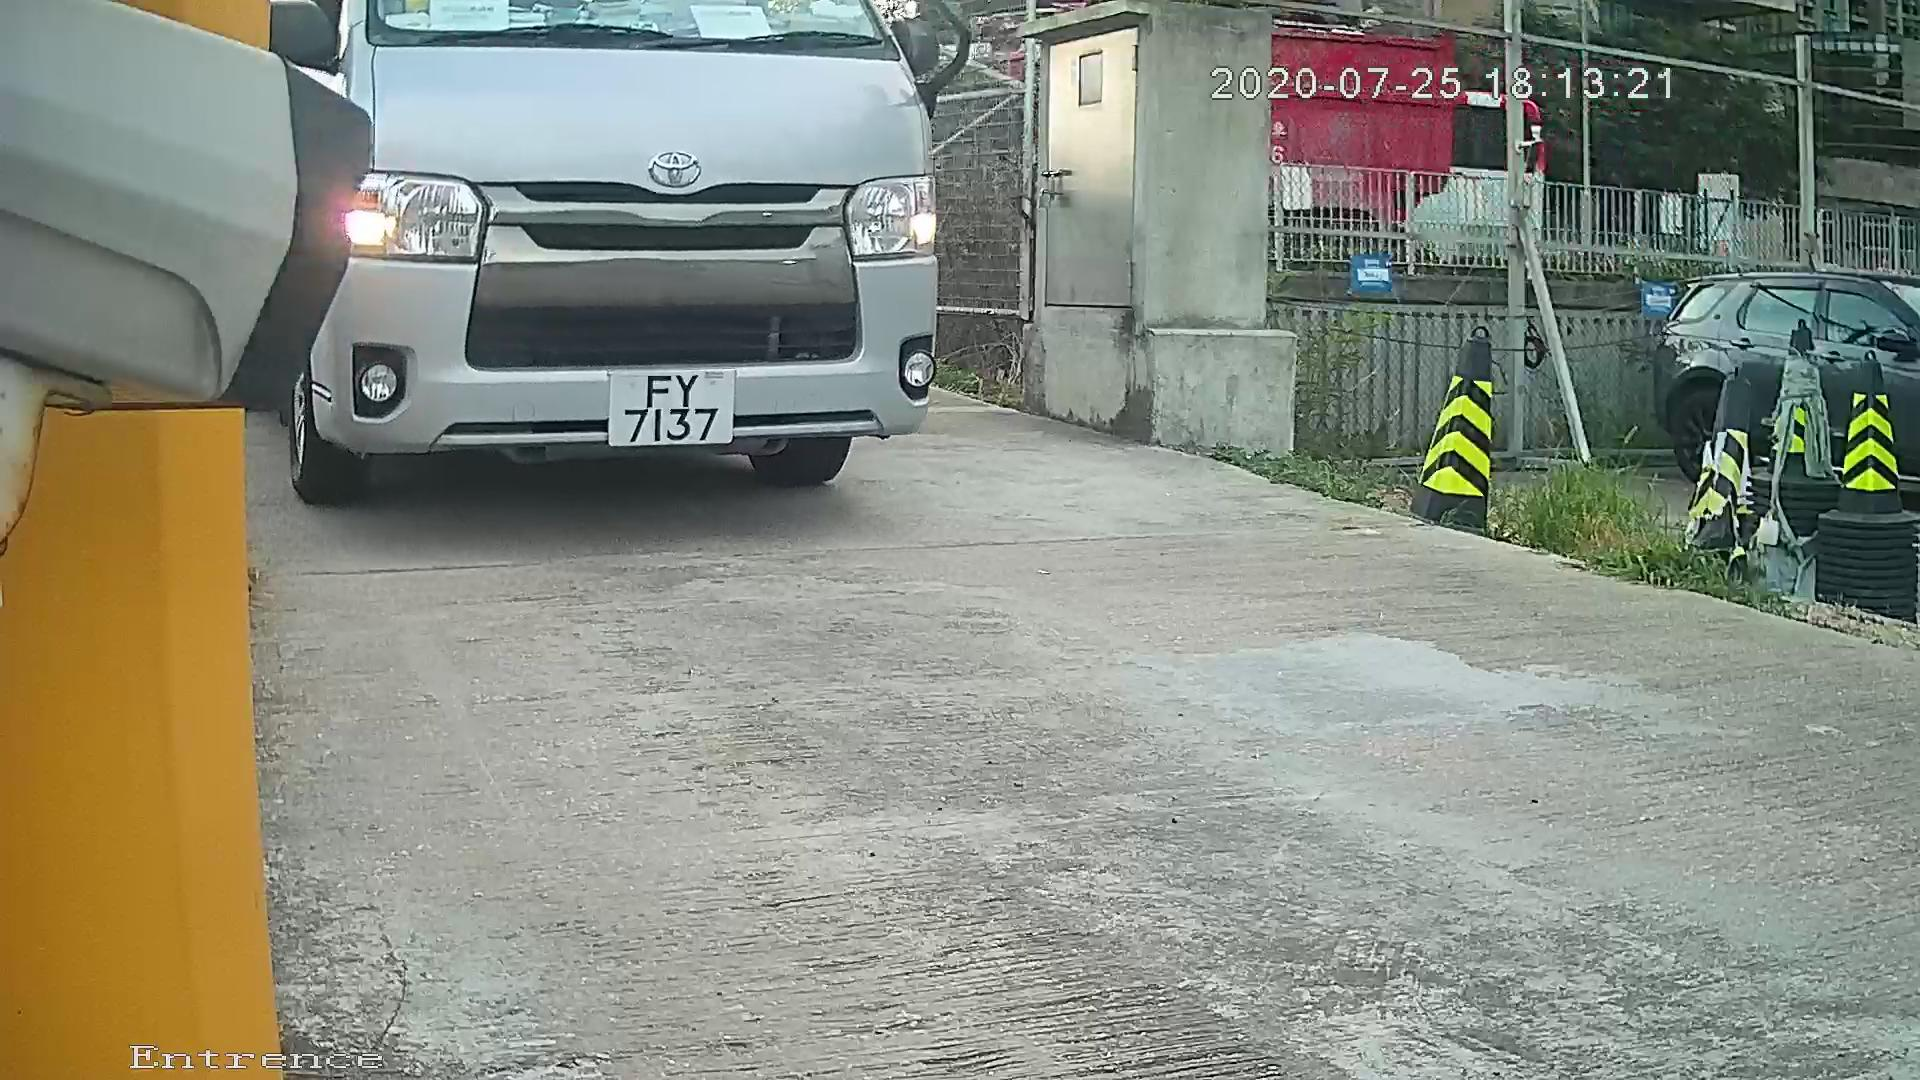Car: (240, 25, 969, 512)
License Plate: (575, 362, 746, 463)
